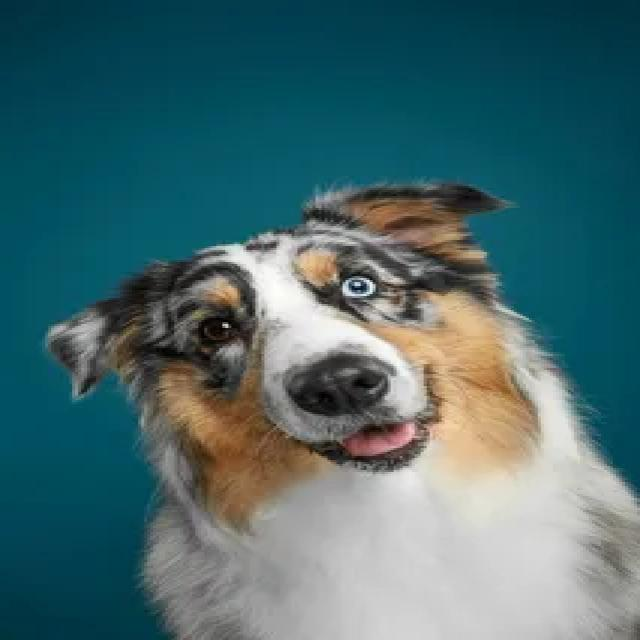Dog: (30, 180, 542, 505)
